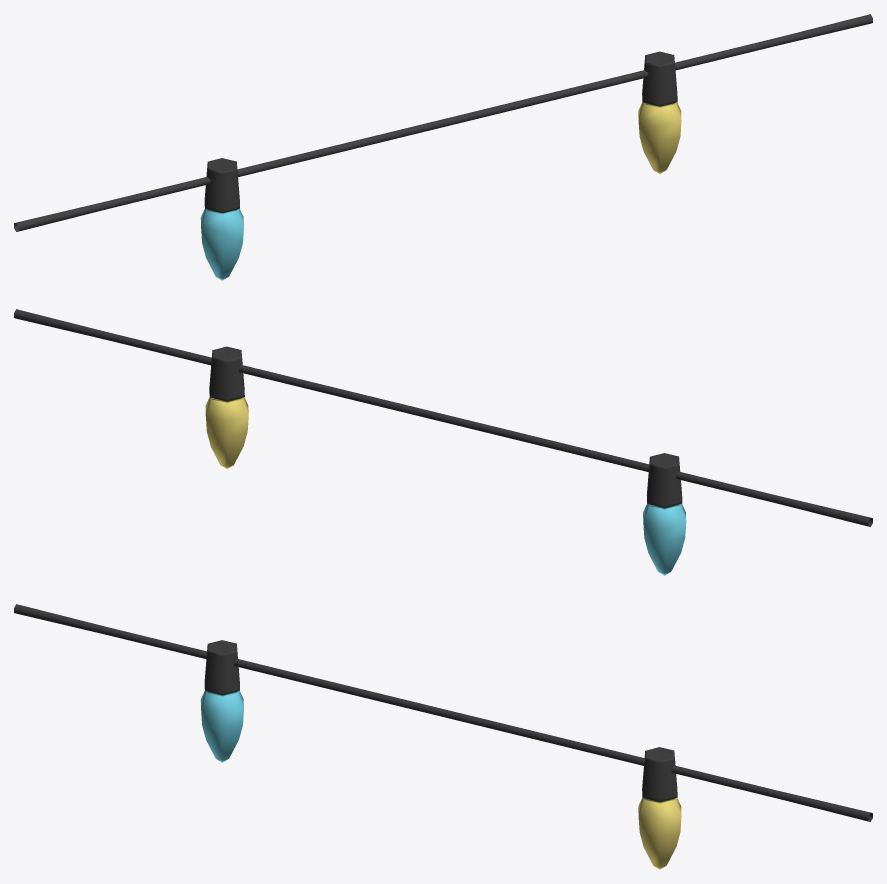
Rendered from SM_Hanging_Lights_var2.FBX.
The picture shows the model from 3 angles, top to bottom: view 1: azimuth 30°, elevation 25°; view 2: azimuth 150°, elevation 25°; view 3: azimuth 330°, elevation 25°; orthographic projection.
Visible parts, largest first — view 1: SM_Hanging_Lights_var2_LOD0; view 2: SM_Hanging_Lights_var2_LOD0; view 3: SM_Hanging_Lights_var2_LOD0.
Boxes of the visible parts, bbox=[...] form: SM_Hanging_Lights_var2_LOD0: bbox=[14, 14, 872, 280]; SM_Hanging_Lights_var2_LOD0: bbox=[14, 309, 872, 575]; SM_Hanging_Lights_var2_LOD0: bbox=[14, 604, 872, 869].
Size of the model in its own units: 198 by 8.7 by 25.71.
